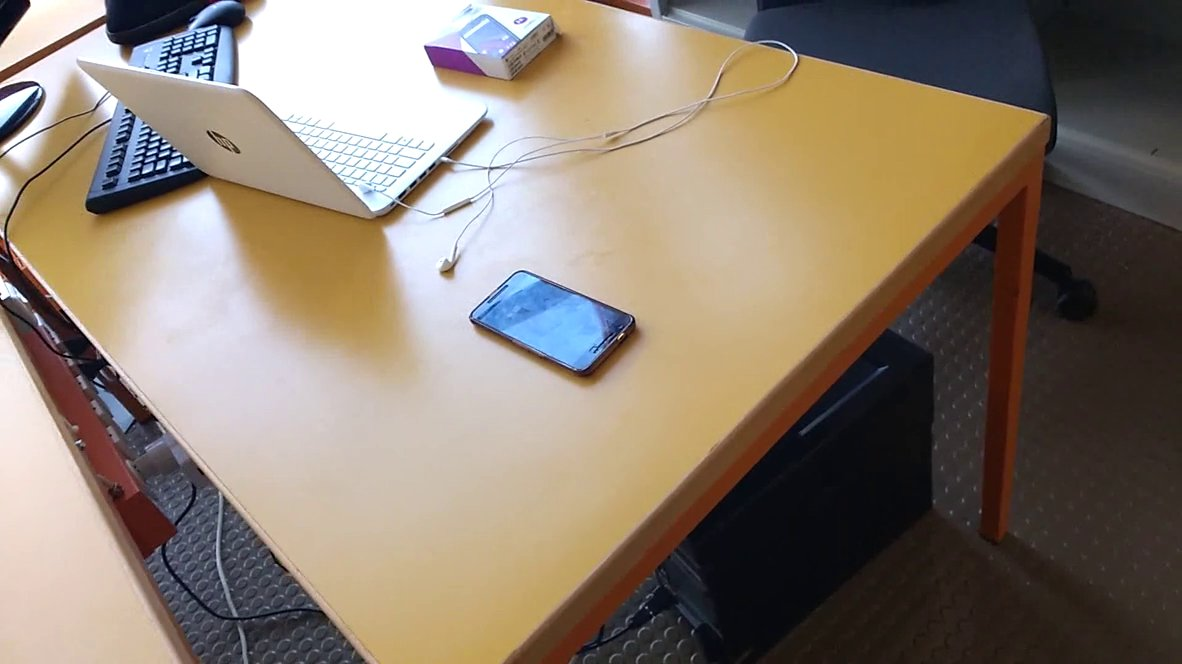laptop: (62, 42, 497, 228)
phone: (460, 265, 655, 393)
